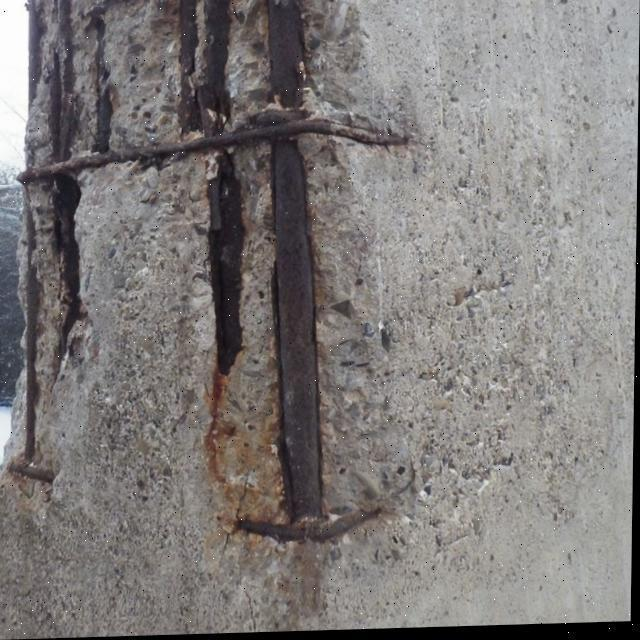D0w0: (10, 0, 425, 545)
